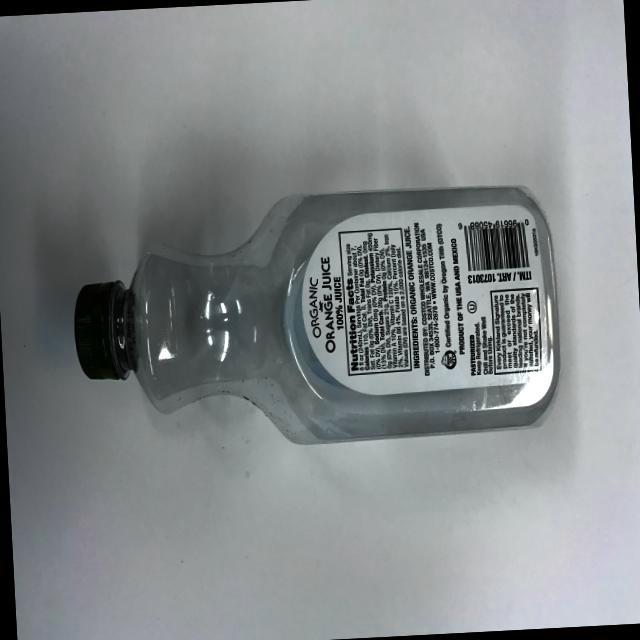plastic: (32, 132, 578, 550)
